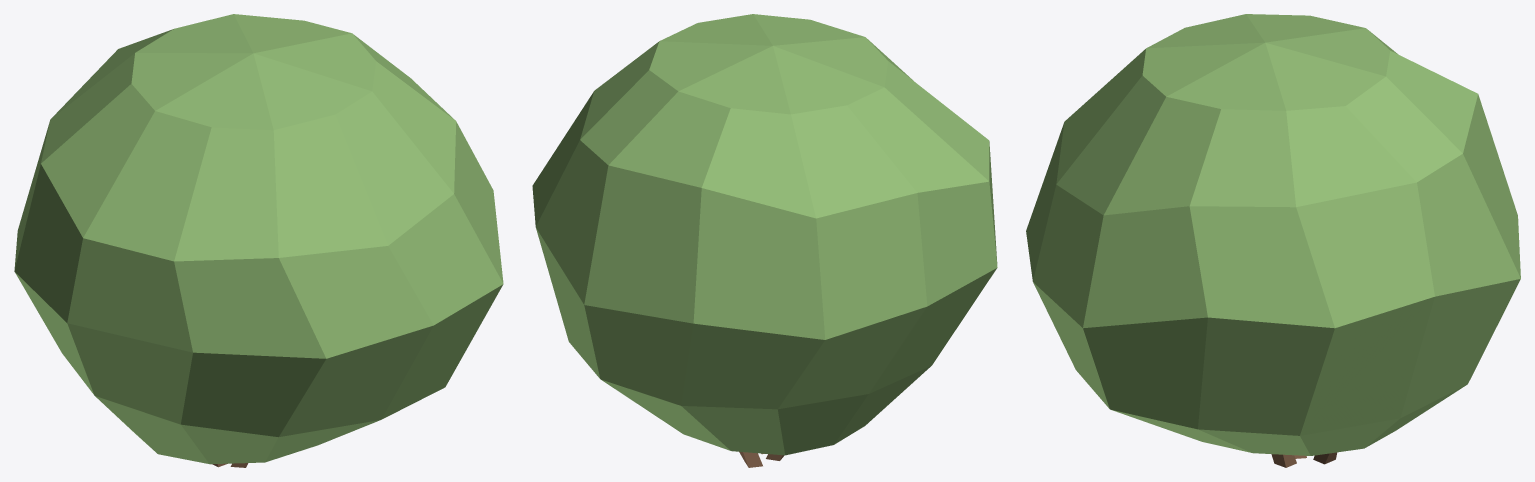
The model's file is Bushes_bush_01.001.fbx.
3 views of the same model, side by side, from view 1: azimuth 30°, elevation 25°; view 2: azimuth 150°, elevation 25°; view 3: azimuth 270°, elevation 25° (orthographic). The views are drawn at different scales.
Visible parts, largest first — view 1: Bushes_bush_01.001; view 2: Bushes_bush_01.001; view 3: Bushes_bush_01.001.
Part boxes in pixels (left/top/right/bottom): Bushes_bush_01.001: left=14, top=14, right=503, bottom=467; Bushes_bush_01.001: left=532, top=14, right=997, bottom=467; Bushes_bush_01.001: left=1026, top=14, right=1520, bottom=467.
Bounding box in the file's own units: 59.35 × 55.09 × 58.44.
